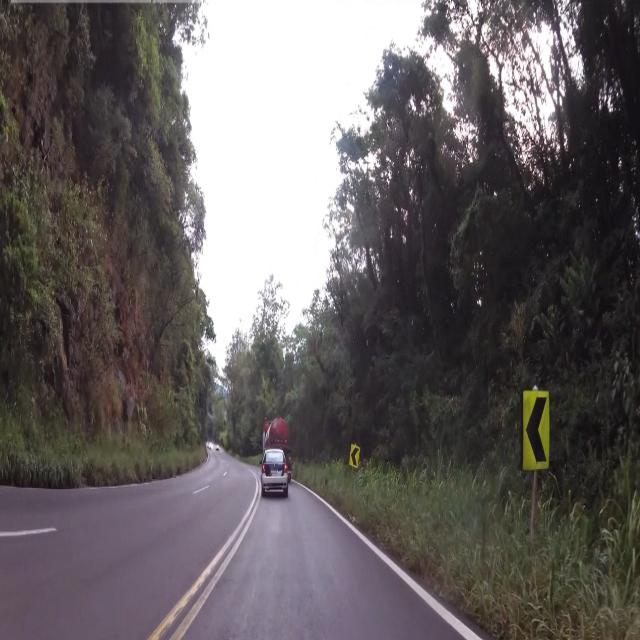Del: (520, 388, 553, 472)
